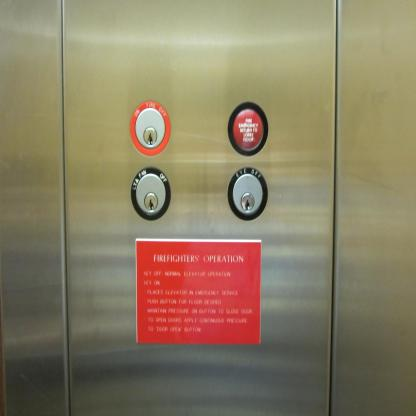keyhole: (128, 96, 172, 160), (226, 164, 270, 223), (130, 163, 173, 222)
text: (225, 98, 271, 160)
